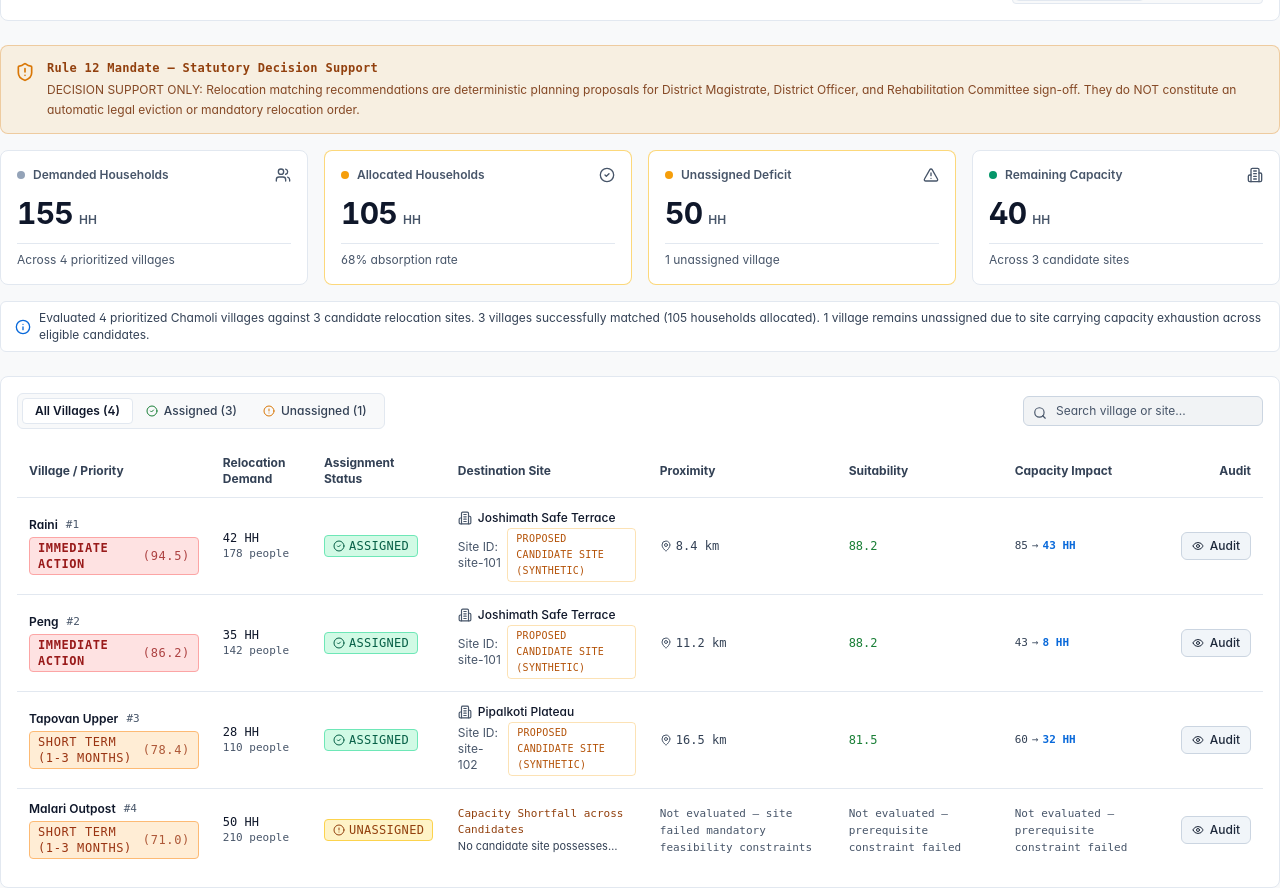
it: Relocation Planner Workflow UI Suite (Chunk M6-02) › Candidate Evaluation Explainability Audit Modal › opens audit modal on clicking Audit button and displays candidate explainability
(page scrolled)
Note: Click the audit button for Malari Outpost (index 3)
Click the button "Audit" in the row of "71.0" at {"x": 1216, "y": 830}, box [1181, 816, 1251, 844]
(page scrolled)
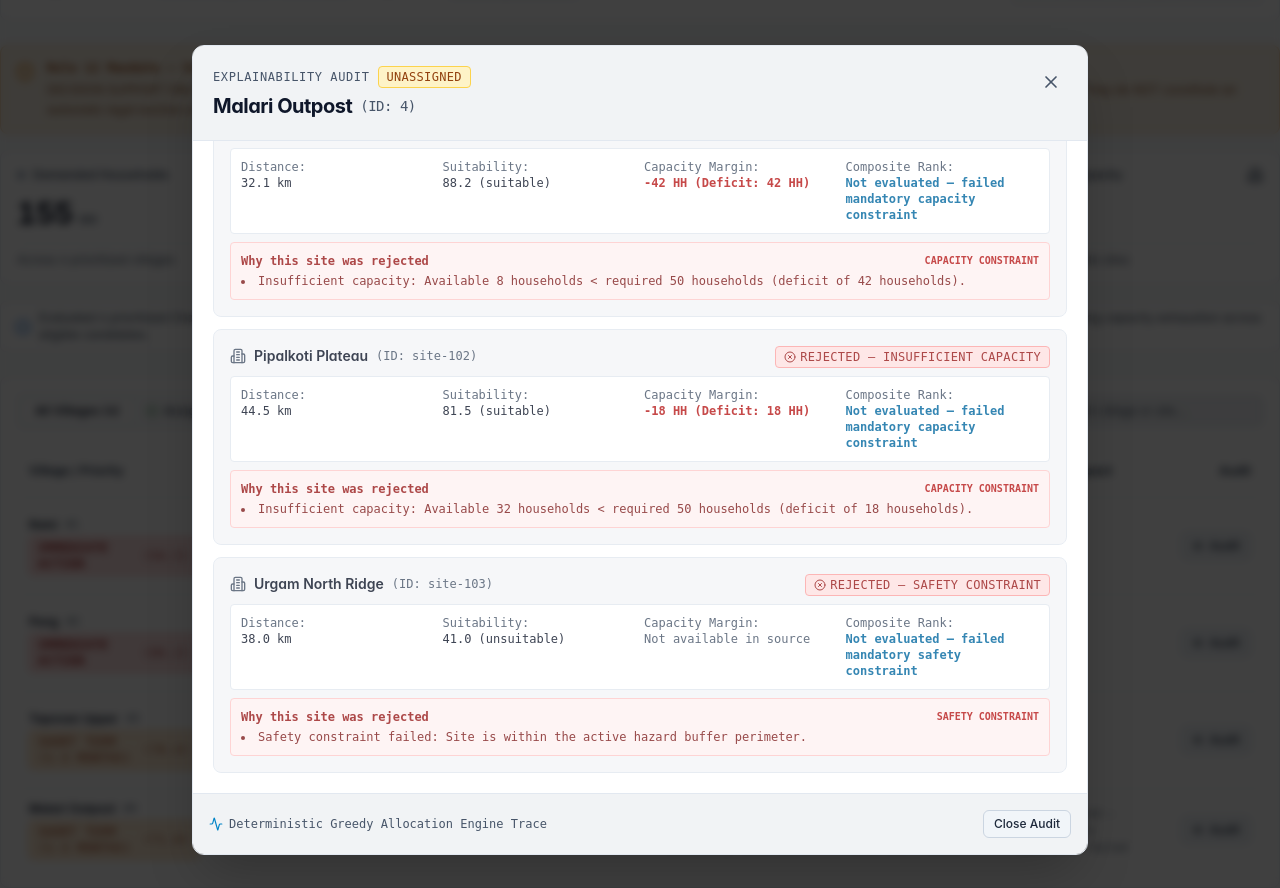
Expected: the dialog is shown
Expected: the text "Explainability Audit" is shown, [213, 69, 370, 85]
Expected: the heading "Joshimath Safe Terrace" is shown, [254, 118, 416, 138]
Note: Close modal using footer Close Audit button
Click the button "Close Audit" at {"x": 1027, "y": 824}, box [983, 810, 1071, 838]
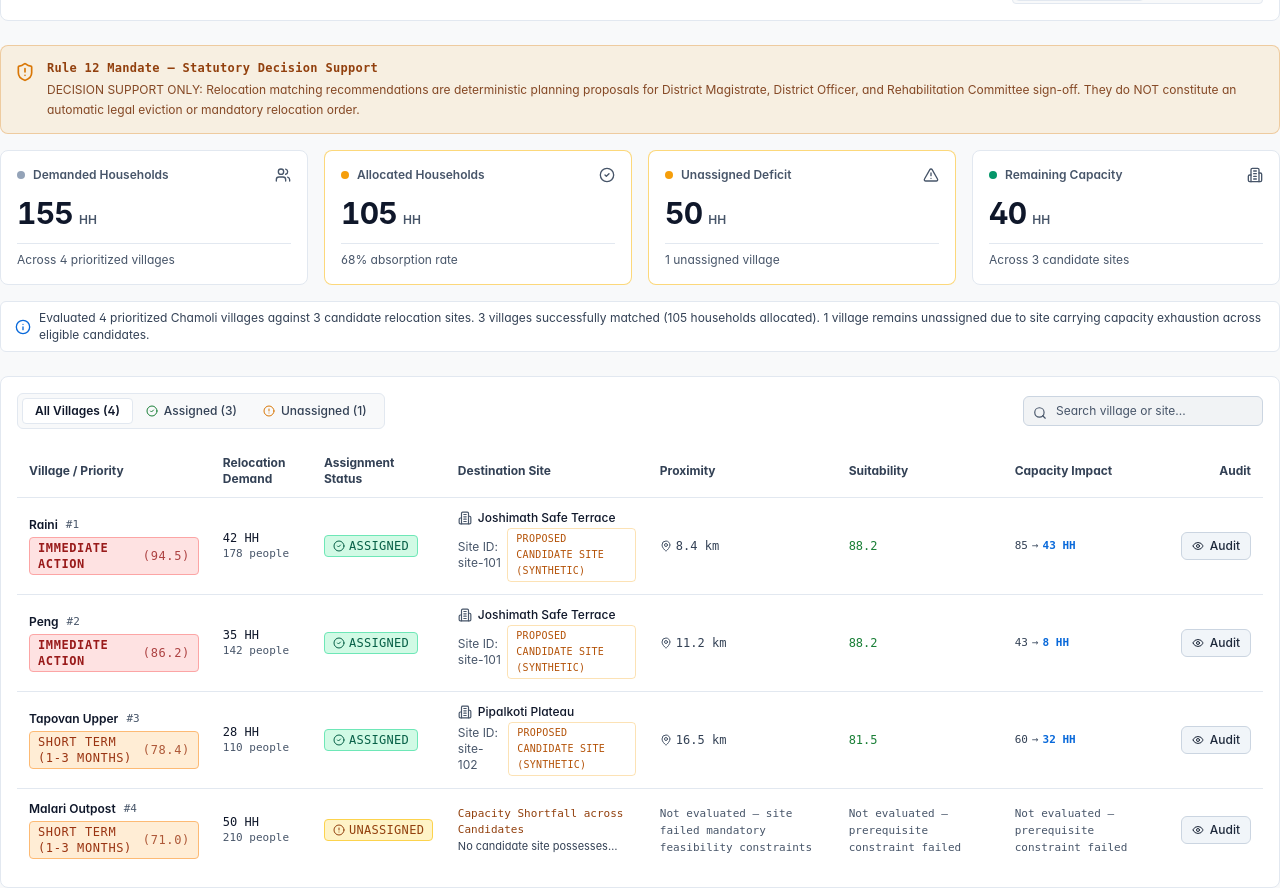
Expected: the dialog is gone
